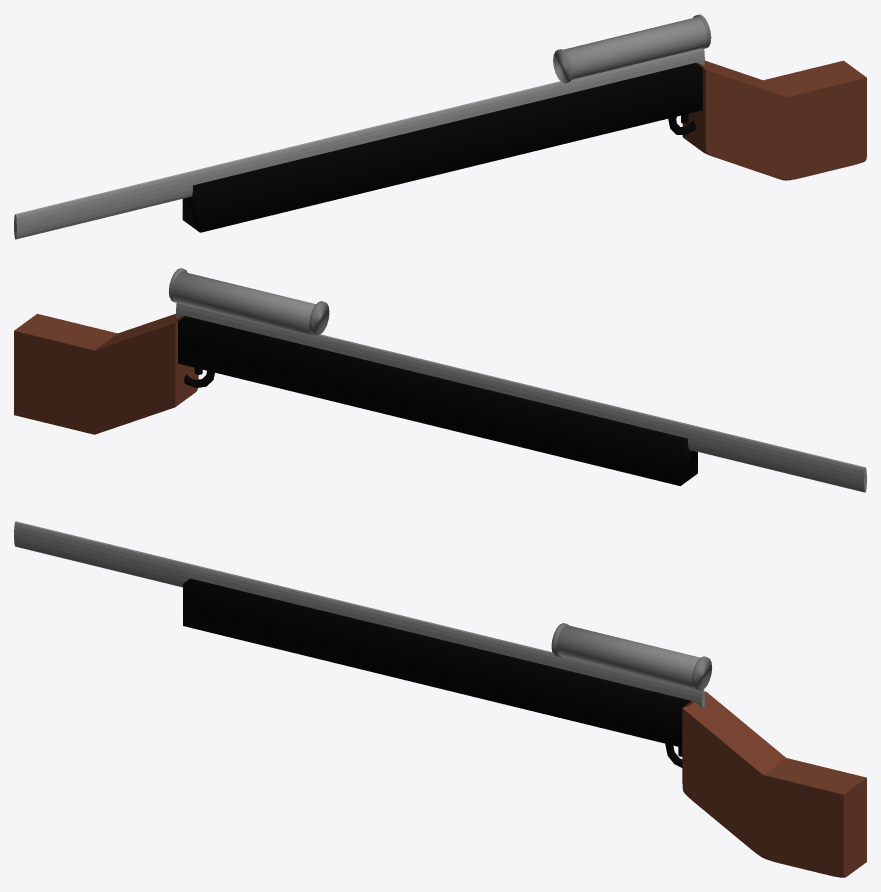
The model's file is sniperNew.fbx.
3 views of the same model, one above another, from view 1: azimuth 30°, elevation 25°; view 2: azimuth 150°, elevation 25°; view 3: azimuth 330°, elevation 25° (orthographic).
Visible parts, largest first — view 1: Cube.001; view 2: Cube.001; view 3: Cube.001.
Part boxes in pixels (x1,y1,x2,y2): Cube.001: [14, 14, 866, 239]; Cube.001: [14, 268, 866, 492]; Cube.001: [14, 521, 866, 877].
Size of the model in its own units: 834 by 166 by 40.
